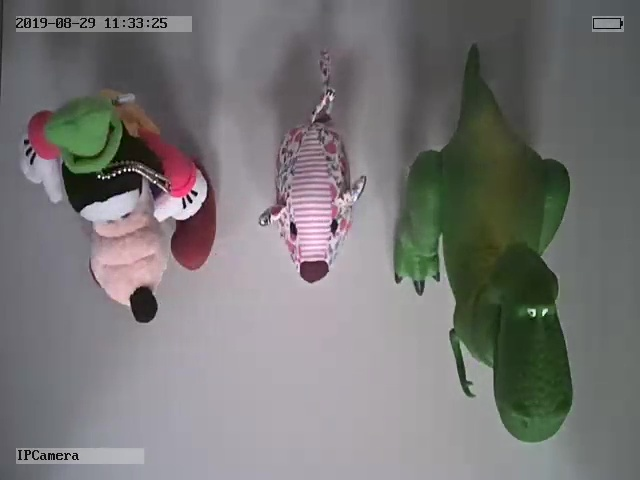goofy: (21, 88, 219, 326)
pig: (259, 51, 366, 285)
rex: (394, 42, 572, 441)
